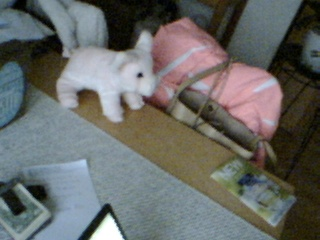piggy: (55, 28, 160, 125)
